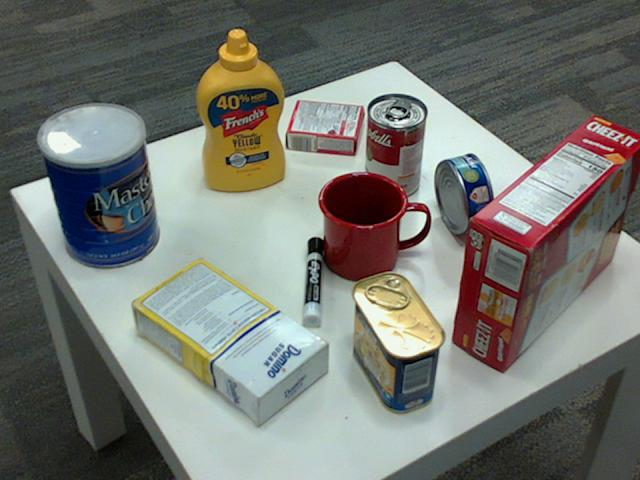cracker_box: (450, 114, 639, 370)
gelatin_box: (287, 99, 365, 152)
large_marker: (301, 238, 323, 331)
master_chef_can: (35, 103, 157, 269)
mug: (316, 169, 427, 278)
mustard_bottle: (196, 29, 285, 190)
potted_meat_can: (349, 272, 446, 412)
sugar_box: (127, 255, 326, 420)
tomato_soup_can: (363, 94, 426, 199)
tuna_fish_can: (434, 153, 492, 233)
